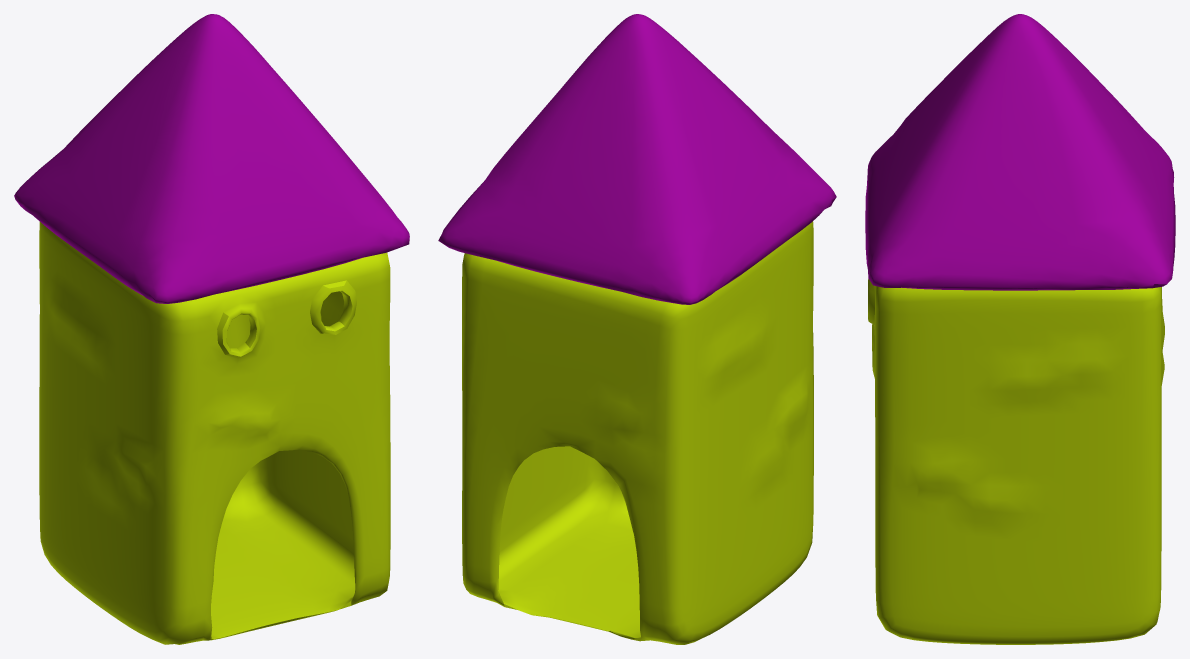
Rendered from one_colume_low2.fbx.
3 renders of one model, left to right at view 1: azimuth 30°, elevation 25°; view 2: azimuth 150°, elevation 25°; view 3: azimuth 270°, elevation 25°, orthographic.
Visible parts, largest first — view 1: Group15893; view 2: Group15893; view 3: Group15893.
Part boxes in pixels (x1,y1,x2,y2): Group15893: (14,14,409,644); Group15893: (438,14,836,644); Group15893: (865,14,1175,644).
Size of the model in its own units: 69.68 by 69.8 by 144.
